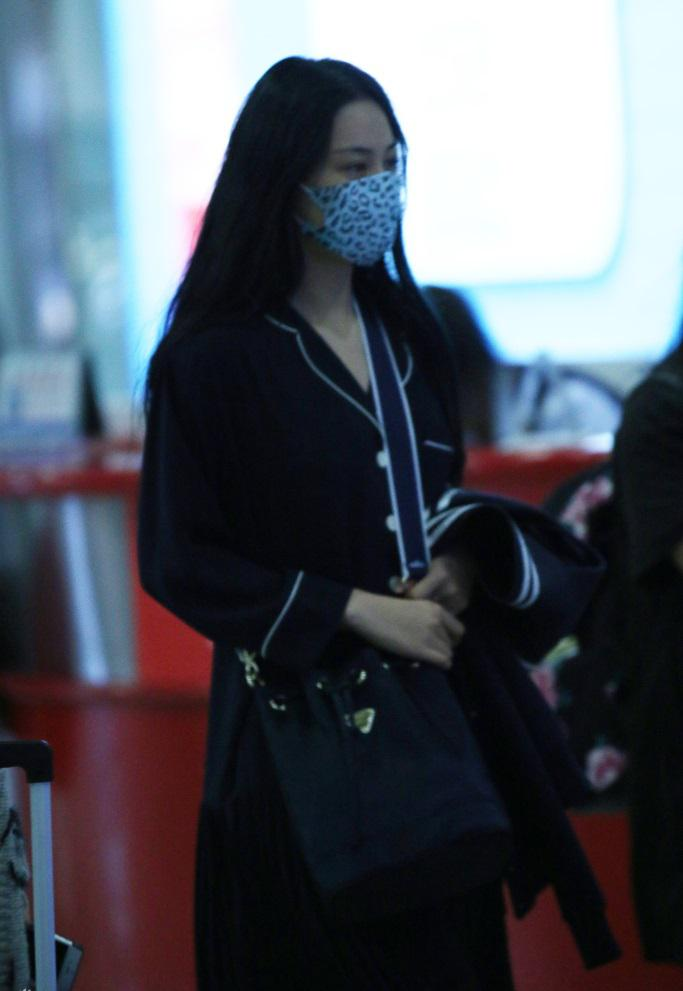OK: (291, 143, 411, 263)
